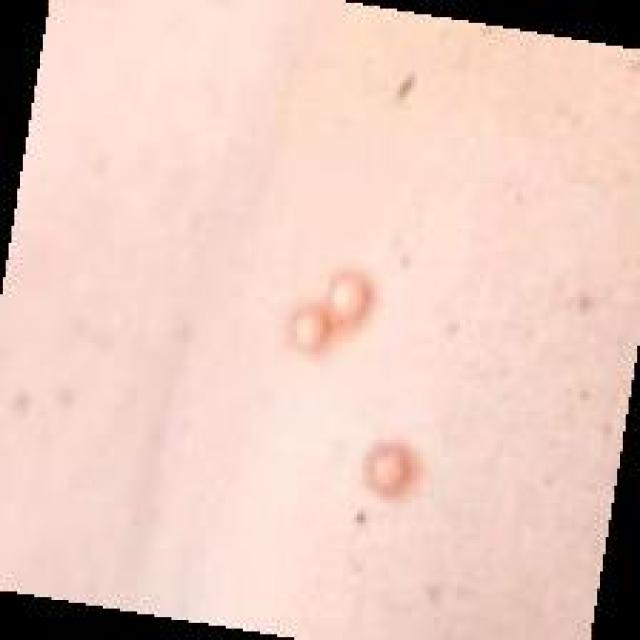monkeypox: (92, 41, 622, 588)
